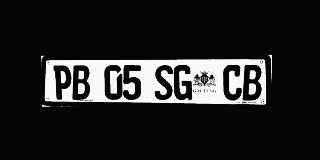0: (104, 65, 122, 100)
5: (123, 65, 141, 100)
B: (242, 65, 262, 100), (72, 65, 90, 100)
C: (223, 65, 242, 100)
G: (174, 65, 192, 100)
P: (53, 65, 72, 100)
S: (154, 65, 173, 100)
